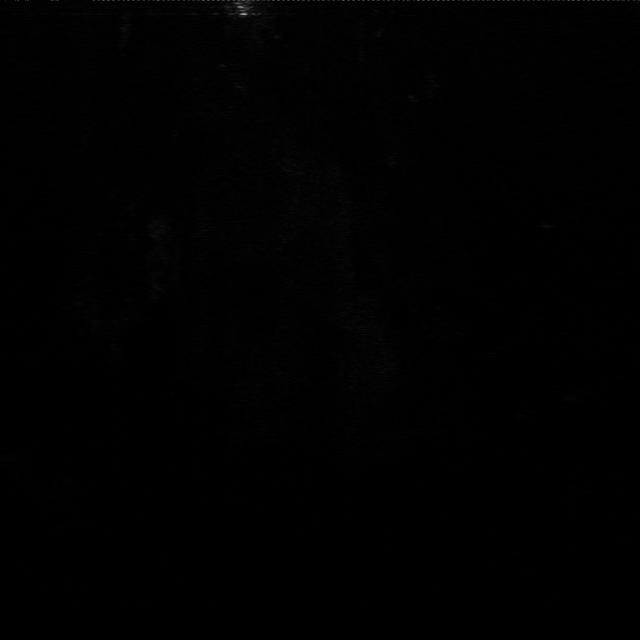rov: (231, 0, 257, 14)
